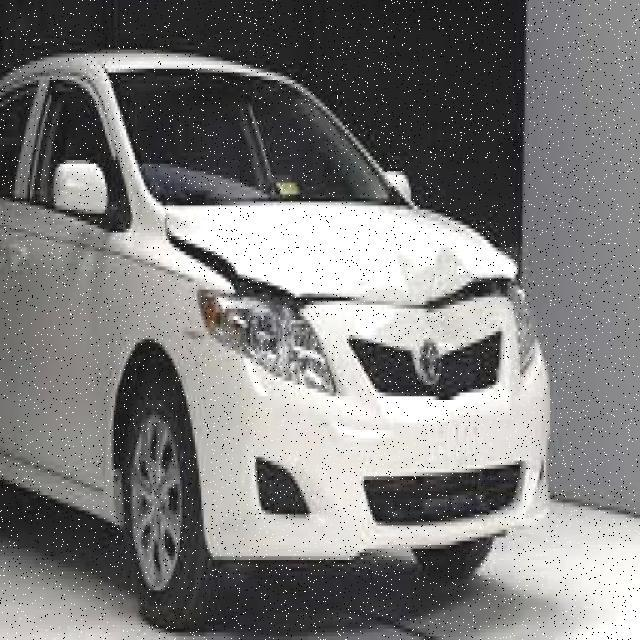car damage: (351, 230, 492, 356)
